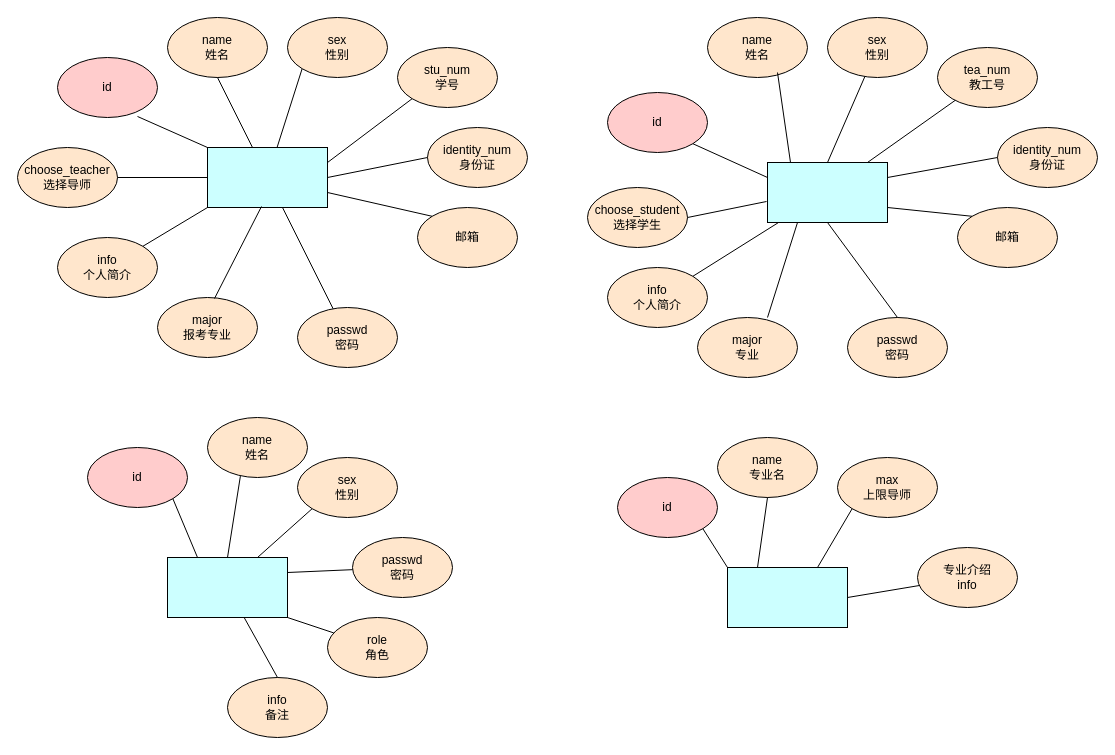
Some shapes in this 1115 by 755 pixel diagram are drawn without their labels. Each missing label, with the centre of its shape:
"专业 major" goes at point 787,597.
"学生 student" goes at point 267,177.
"教师 student" goes at point 827,192.
"管理员 admin" goes at point 227,587.
